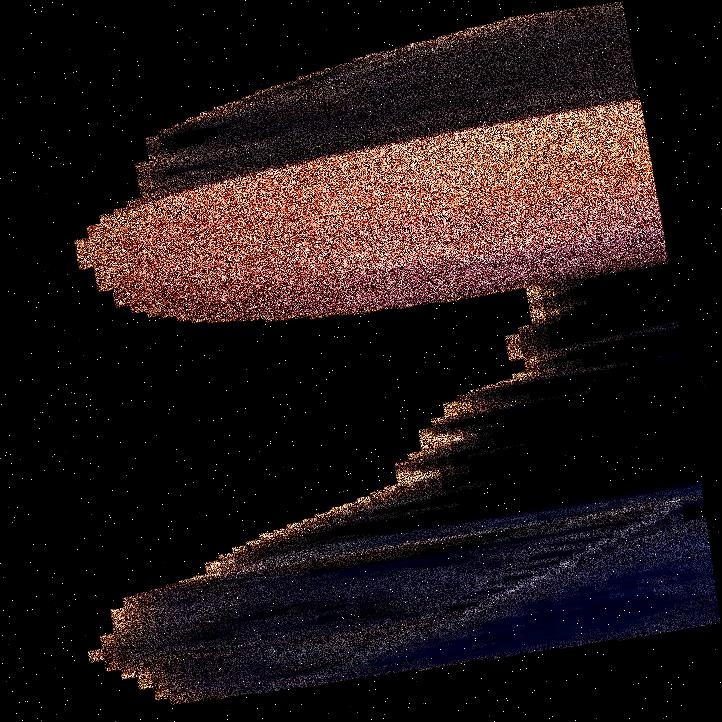Pessoa: (203, 0, 721, 721)
